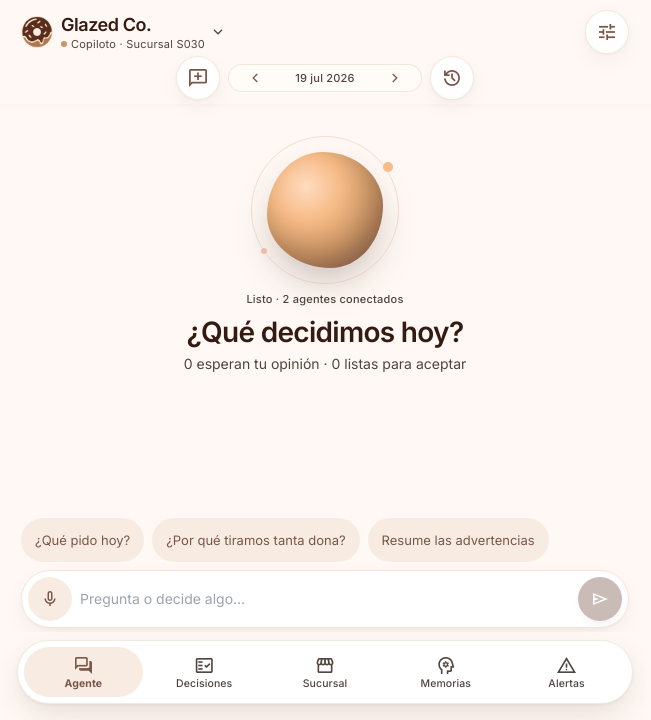
Test: Copiloto (/copiloto) matches Copiloto.dc.html › Sucursal: inventory section with its subtitle, 'Proyección desde hoy' chip, Actual/Salida/Compra and the status pill
Click the button "Sucursal" at (325, 672), box [266,647,384,697]
(page scrolled)
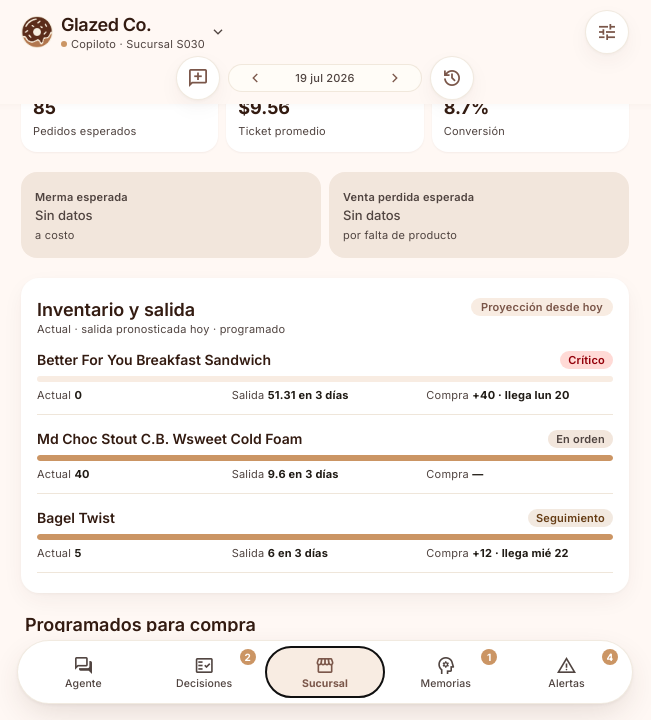
Check: the heading "Inventario y salida" is shown, box [37,299,195,320]
Check: the text "Actual · salida pronosticada hoy · programado" is shown, box [37,322,285,336]
Check: the text "Proyección desde hoy" is shown, box [471,298,613,316]
